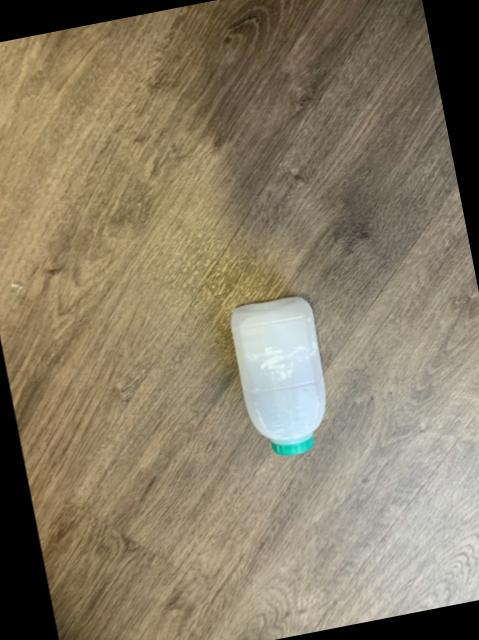plastic: (229, 297, 322, 456)
